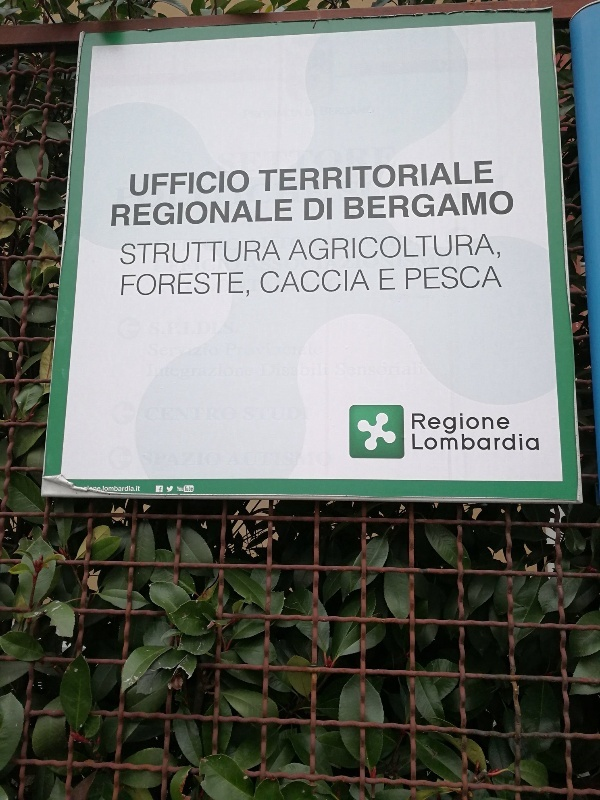text: (257, 157, 272, 194), (273, 157, 288, 194), (289, 157, 304, 194), (305, 157, 320, 194), (321, 157, 336, 194), (337, 157, 352, 194), (353, 157, 368, 194), (369, 157, 384, 194), (385, 157, 400, 194), (401, 157, 416, 194), (417, 157, 432, 194), (433, 157, 448, 194), (449, 157, 464, 194), (465, 157, 480, 194), (353, 188, 368, 222), (369, 188, 384, 222), (385, 188, 400, 222), (401, 188, 416, 222), (417, 188, 432, 222), (433, 188, 448, 222), (449, 188, 464, 222), (465, 188, 480, 222), (481, 188, 496, 222), (497, 188, 512, 222), (481, 157, 494, 194), (113, 197, 128, 228), (129, 197, 144, 228), (145, 197, 160, 228), (161, 197, 176, 228), (177, 197, 192, 228), (193, 197, 208, 228), (209, 197, 224, 228), (225, 197, 240, 228), (241, 197, 256, 228), (257, 197, 272, 228), (273, 197, 288, 228), (305, 232, 320, 263), (321, 232, 336, 263), (337, 232, 352, 263), (353, 232, 368, 263), (369, 232, 384, 263), (385, 232, 400, 263), (401, 232, 416, 263), (417, 232, 432, 263), (433, 232, 448, 263), (449, 232, 464, 263), (465, 232, 480, 263), (481, 232, 496, 263), (129, 237, 144, 267), (145, 237, 160, 267), (161, 237, 176, 267), (177, 237, 192, 267), (193, 237, 208, 267), (209, 237, 224, 267), (225, 237, 240, 267), (241, 237, 256, 267), (257, 237, 272, 267), (145, 169, 160, 198), (161, 169, 176, 198), (177, 169, 192, 198), (193, 169, 208, 198), (209, 169, 224, 198), (225, 169, 240, 198), (273, 268, 288, 297), (289, 268, 304, 297), (305, 268, 320, 297), (321, 268, 336, 297), (337, 268, 352, 297), (353, 268, 368, 297), (129, 270, 144, 298), (145, 270, 160, 298), (161, 270, 176, 298), (177, 270, 192, 298), (193, 270, 208, 298), (209, 270, 224, 298), (225, 270, 240, 298), (305, 196, 320, 223), (417, 265, 432, 292), (433, 265, 448, 292), (449, 265, 464, 292), (465, 265, 480, 292), (481, 265, 496, 292), (131, 169, 144, 198), (417, 413, 432, 438), (433, 413, 448, 438), (449, 413, 464, 438), (465, 413, 480, 438), (481, 413, 496, 438), (497, 413, 510, 438), (321, 196, 333, 223), (261, 268, 272, 297), (417, 432, 432, 453), (433, 432, 448, 453), (449, 432, 464, 453), (465, 432, 480, 453), (481, 432, 496, 453), (497, 432, 512, 453), (513, 432, 528, 453), (385, 267, 396, 292), (344, 188, 352, 222), (273, 237, 282, 267), (406, 265, 416, 292), (241, 169, 250, 198), (241, 270, 250, 298), (296, 232, 304, 263), (497, 232, 505, 263), (529, 432, 540, 453), (122, 237, 128, 267), (122, 270, 128, 298), (497, 265, 503, 292), (289, 197, 293, 228), (97, 484, 112, 492), (113, 484, 128, 492), (177, 485, 192, 492), (380, 267, 384, 292), (412, 413, 416, 438), (129, 484, 141, 492), (412, 432, 416, 453), (87, 484, 96, 492), (513, 188, 515, 222), (369, 268, 371, 297), (184, 486, 192, 492), (159, 486, 160, 493), (161, 486, 162, 493)
